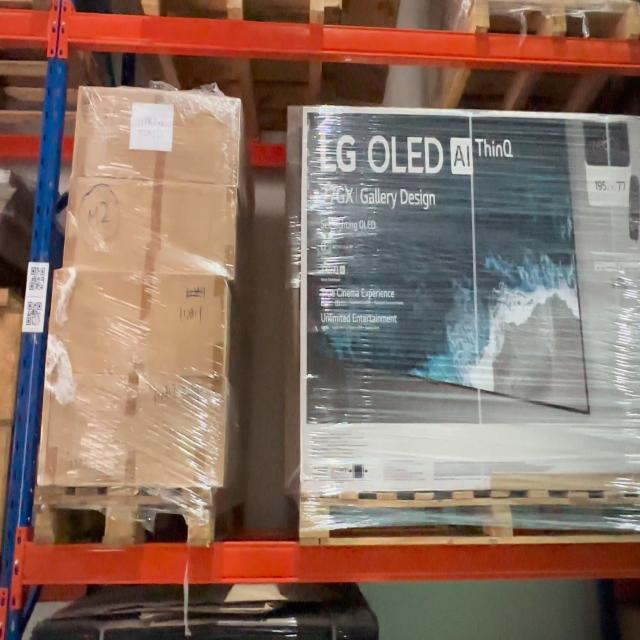box: (45, 379, 226, 483), (54, 271, 224, 375), (80, 99, 238, 182), (69, 188, 235, 262)
